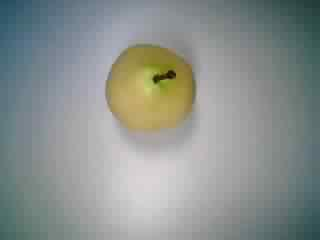pear: (94, 39, 203, 141)
